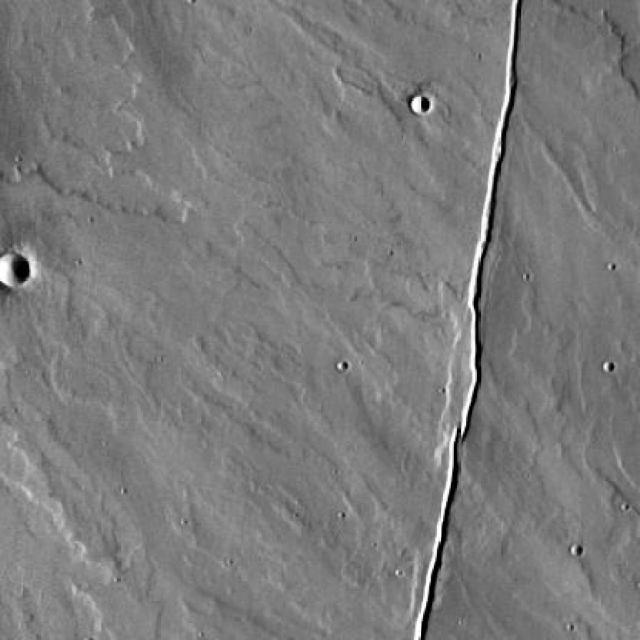crater: (0, 249, 26, 285), (409, 95, 428, 112)
